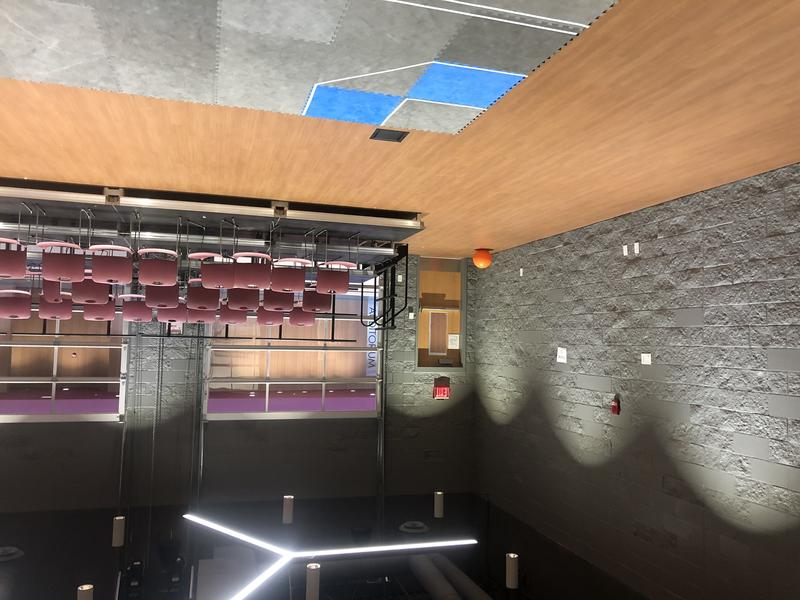ball: (471, 245, 493, 270)
